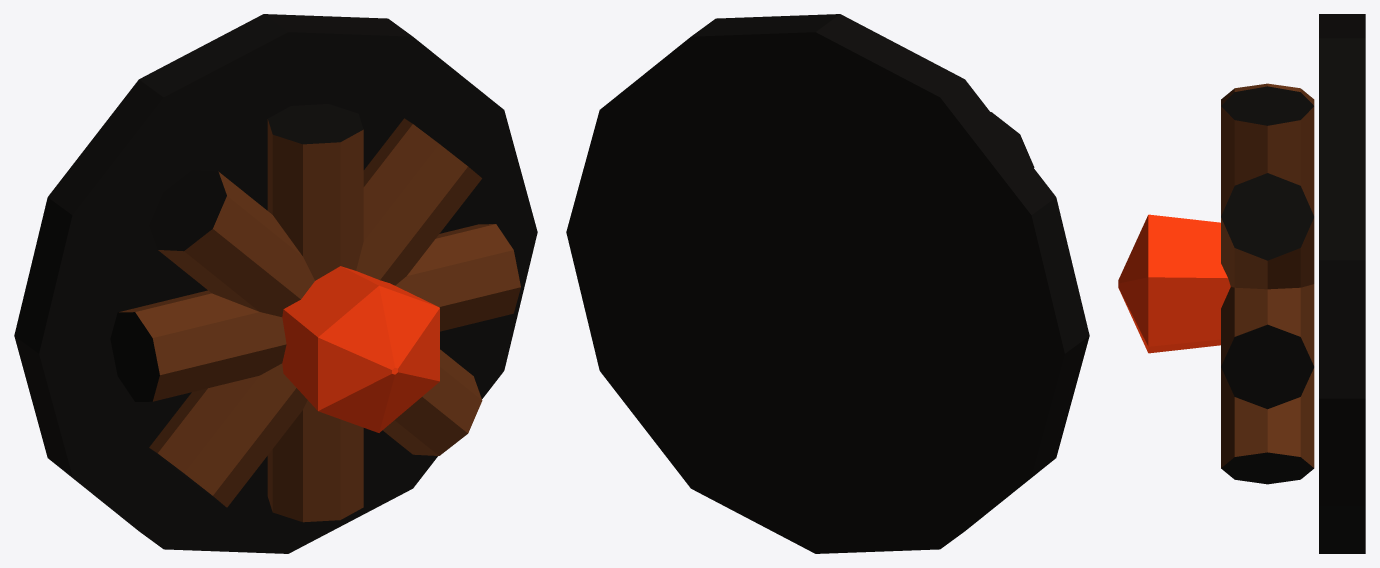
The model's file is SM_CampfireBase.obj.
The picture shows the model from 3 angles, left to right: view 1: azimuth 30°, elevation 25°; view 2: azimuth 150°, elevation 25°; view 3: azimuth 270°, elevation 25°; orthographic projection. The views are drawn at different scales.
Parts seen in each view (by area): view 1: SM_CampfireBase; view 2: SM_CampfireBase; view 3: SM_CampfireBase.
Boxes of the visible parts, left/top/right/bottom form: SM_CampfireBase: left=14, top=14, right=537, bottom=553; SM_CampfireBase: left=566, top=14, right=1089, bottom=553; SM_CampfireBase: left=1118, top=14, right=1365, bottom=553.
Bounding box in the file's own units: 116 × 116 × 53.
